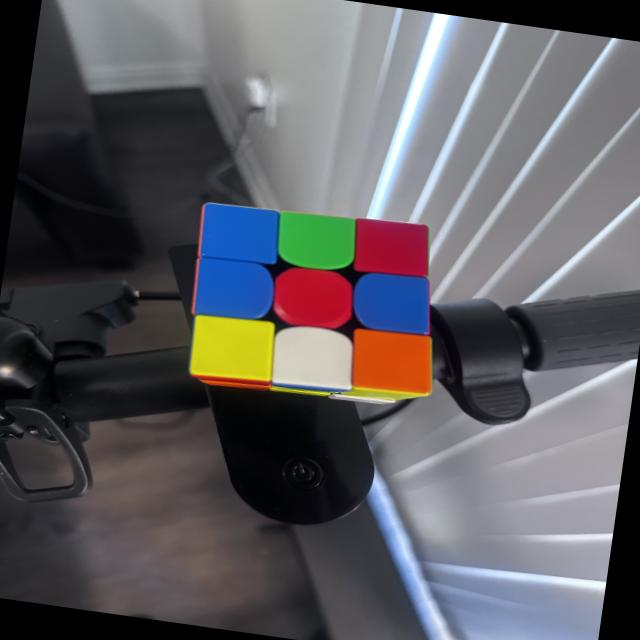sticker: (187, 314, 277, 386), (196, 202, 285, 267), (188, 258, 276, 322), (353, 329, 431, 395), (273, 324, 352, 388), (274, 265, 354, 328), (281, 210, 360, 272), (355, 273, 430, 337), (356, 218, 428, 277)
